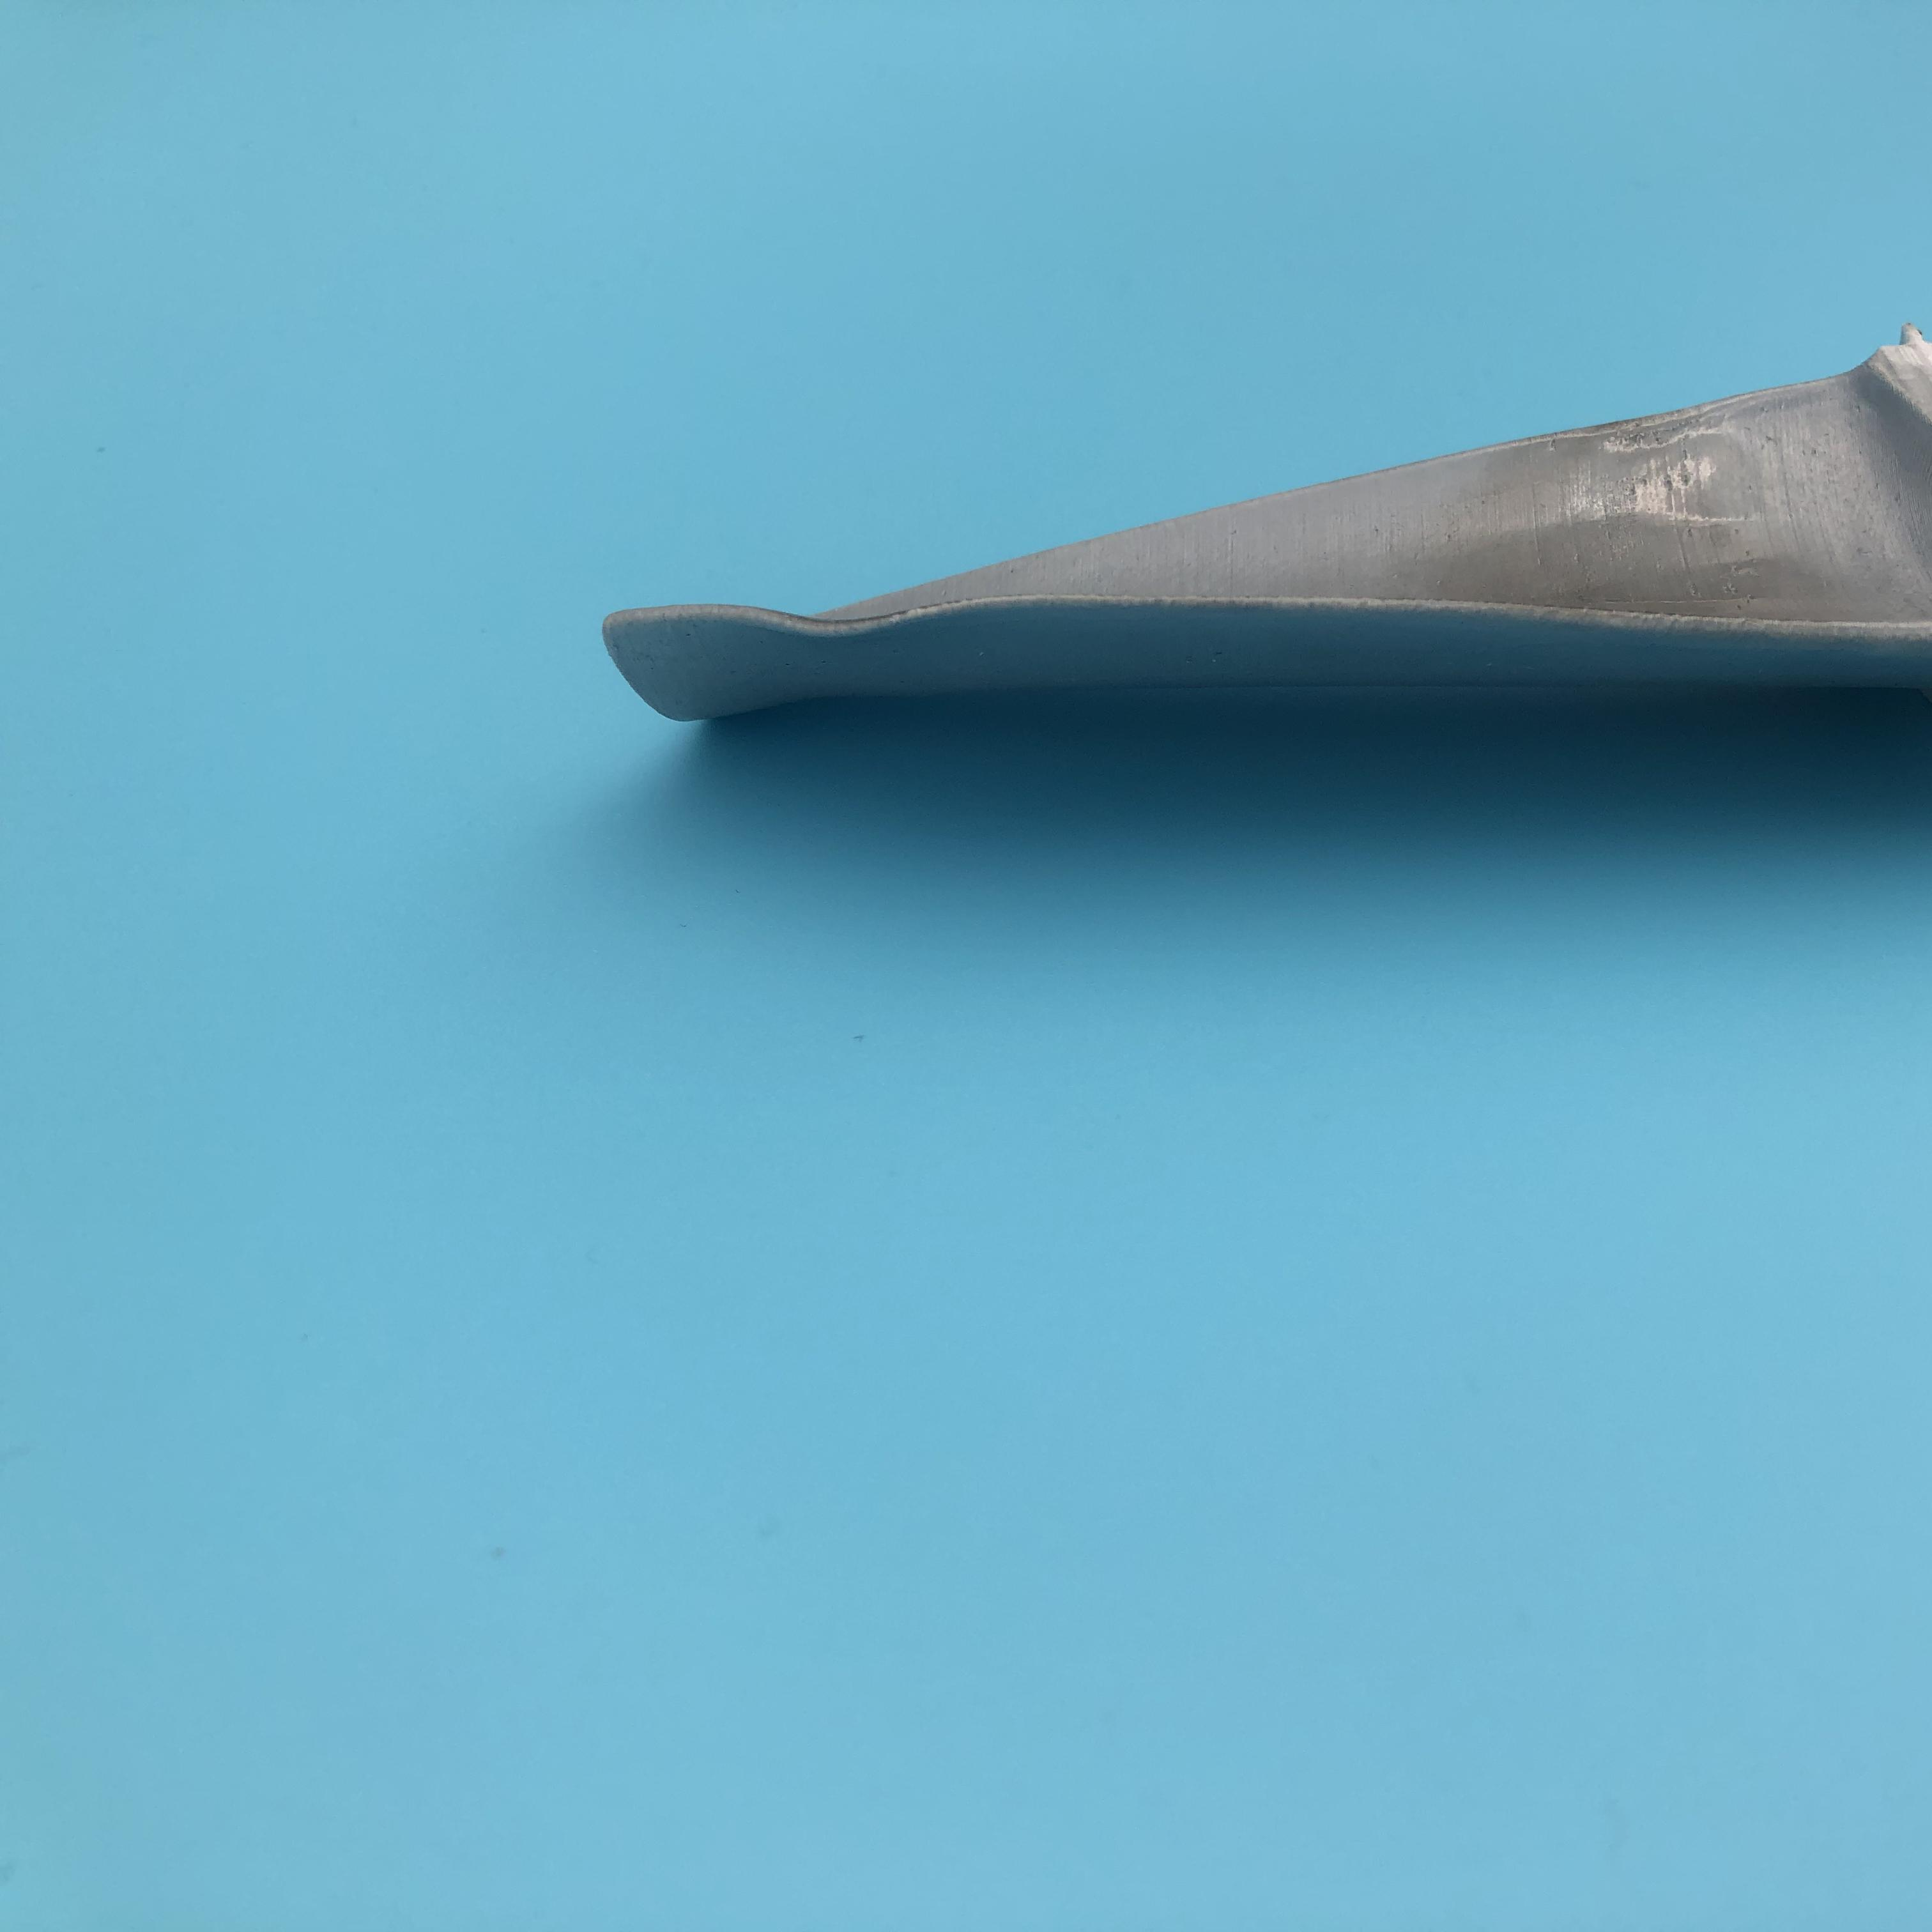ablation: (1518, 460, 1822, 630)
